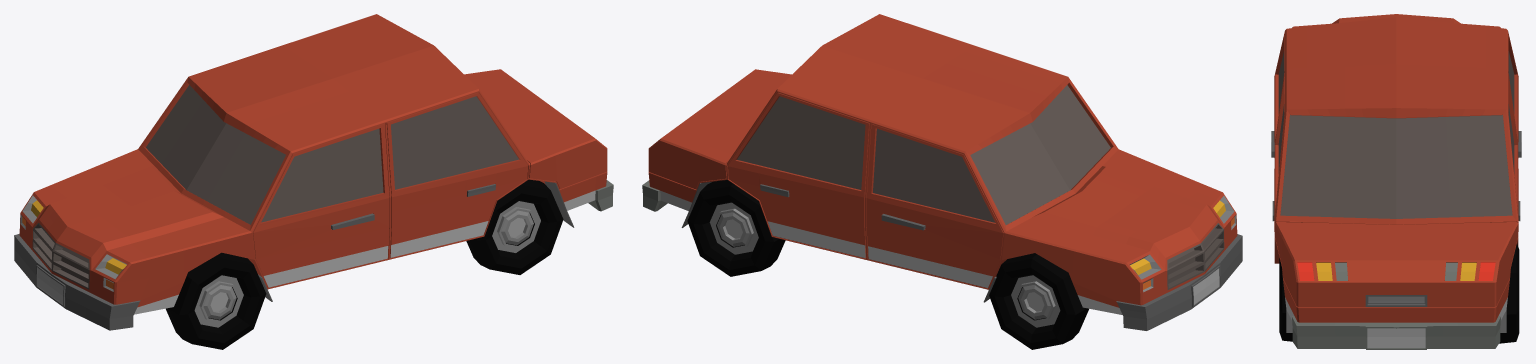
The model's file is Red Car.fbx.
The picture shows the model from 3 angles, left to right: view 1: azimuth 30°, elevation 25°; view 2: azimuth 150°, elevation 25°; view 3: azimuth 270°, elevation 25°; orthographic projection. The views are drawn at different scales.
Parts seen in each view (by area): view 1: Red Car; view 2: Red Car; view 3: Red Car.
Boxes of the visible parts, x1=… form: Red Car: x1=14, y1=14, x2=613, y2=349; Red Car: x1=642, y1=14, x2=1242, y2=349; Red Car: x1=1271, y1=14, x2=1521, y2=349.
Bounding box in the file's own units: 3.43 × 1.33 × 1.27.
